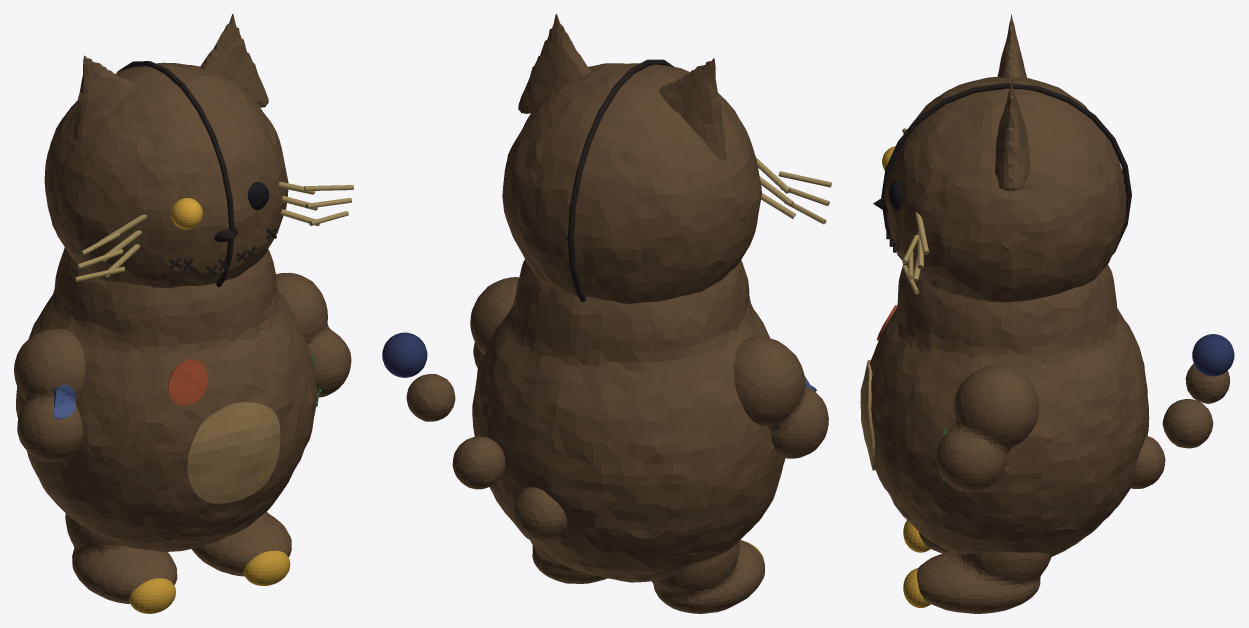
File: chum_1971.glb
3 views of the same model, side by side, from view 1: azimuth 30°, elevation 25°; view 2: azimuth 150°, elevation 25°; view 3: azimuth 270°, elevation 25° (orthographic). The views are drawn at different scales.
Parts seen in each view (by area): view 1: Body, Head, BellyCircle, ArmL, LegL, ArmR, LegR, EarL, EarR, HeadSeam, RustChest, LegLToeCap (+4 smaller); view 2: Body, Head, ArmL, Tail, LegL, EarL, EarR, ArmR, HeadSeam, TailTip, LegR; view 3: Body, Head, ArmR, LegR, Tail, EarR, HeadSeam, TailTip, BellyCircle, EarL, LegRToeCap.
Boxes of the visible parts, bbox=[...] form: Body: bbox=[16, 247, 316, 551]; Head: bbox=[44, 62, 288, 288]; BellyCircle: bbox=[187, 402, 280, 503]; ArmL: bbox=[14, 328, 85, 461]; LegL: bbox=[65, 513, 177, 603]; ArmR: bbox=[276, 272, 351, 397]; LegR: bbox=[191, 511, 291, 576]; EarL: bbox=[72, 55, 134, 151]; EarR: bbox=[200, 14, 268, 107]; HeadSeam: bbox=[117, 61, 234, 287]; RustChest: bbox=[168, 359, 207, 405]; LegLToeCap: bbox=[129, 578, 175, 613]; Body: bbox=[472, 259, 785, 582]; Head: bbox=[502, 63, 761, 303]; ArmL: bbox=[734, 336, 828, 458]; Tail: bbox=[406, 374, 567, 541]; LegL: bbox=[652, 540, 764, 613]; EarL: bbox=[659, 58, 726, 160]; EarR: bbox=[518, 14, 590, 113]; ArmR: bbox=[470, 277, 519, 367]; HeadSeam: bbox=[567, 59, 674, 302]; TailTip: bbox=[382, 332, 427, 377]; LegR: bbox=[530, 541, 606, 583]; Body: bbox=[870, 264, 1149, 556]; Head: bbox=[885, 76, 1126, 302]; ArmR: bbox=[935, 365, 1038, 492]; LegR: bbox=[917, 551, 1051, 613]; Tail: bbox=[1131, 363, 1229, 488]; EarR: bbox=[995, 80, 1030, 191]; HeadSeam: bbox=[881, 83, 1131, 265]; TailTip: bbox=[1192, 334, 1234, 376]; BellyCircle: bbox=[860, 360, 875, 470]; EarL: bbox=[997, 14, 1026, 78]; LegRToeCap: bbox=[903, 568, 930, 607].
Bounding box in the file's own units: 0.7406 × 1.16 × 0.7416.
